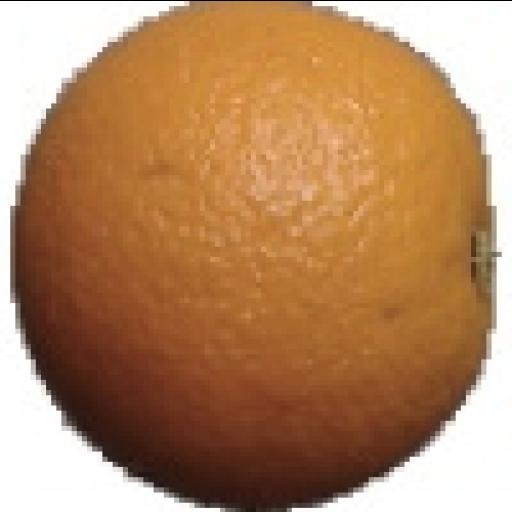orange: (15, 7, 490, 507)
